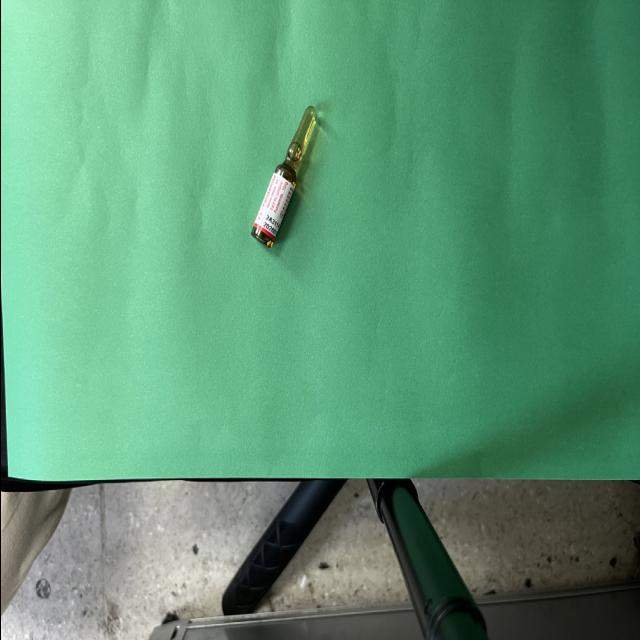Ampoules: (250, 107, 316, 248)
